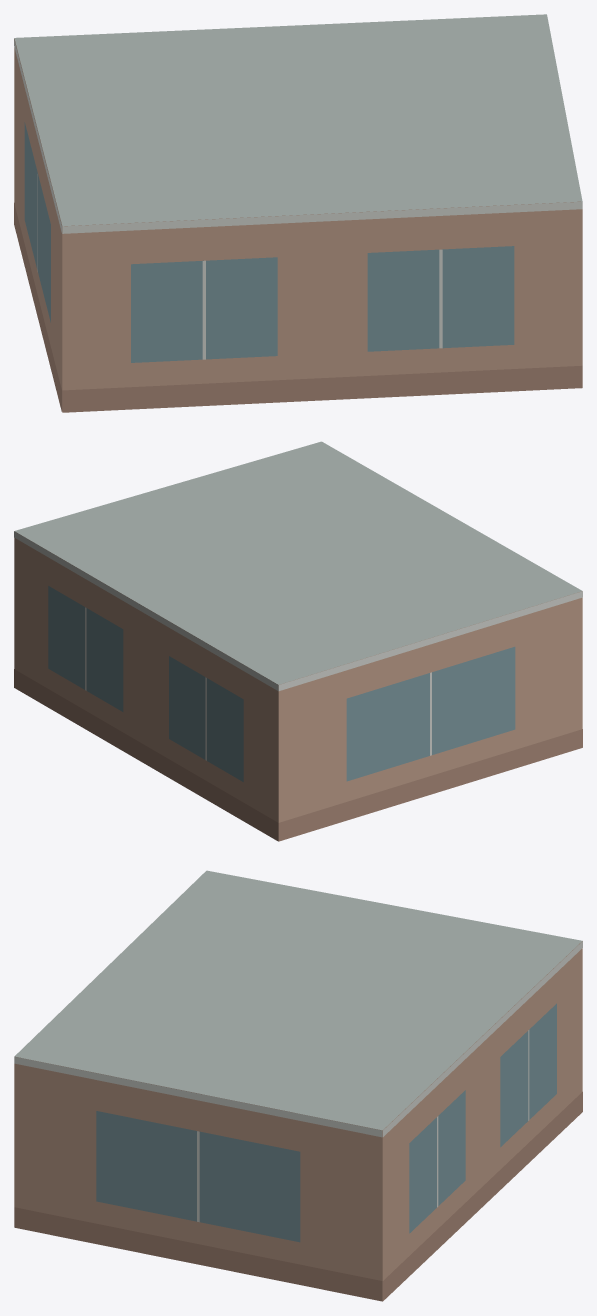
File: survey-upis-33019044.glb
3 views of the same model, one above another, from view 1: azimuth 30°, elevation 25°; view 2: azimuth 150°, elevation 25°; view 3: azimuth 270°, elevation 25° (orthographic). The views are drawn at different scales.
Parts seen in each view (by area): view 1: survey-upis-33019044.tmp; view 2: survey-upis-33019044.tmp; view 3: survey-upis-33019044.tmp.
Boxes of the visible parts, <box> form: survey-upis-33019044.tmp: <box>14,14,582,412</box>; survey-upis-33019044.tmp: <box>14,441,582,841</box>; survey-upis-33019044.tmp: <box>14,870,582,1301</box>.
Bounding box in the file's own units: 9.95 × 3.05 × 9.2.
